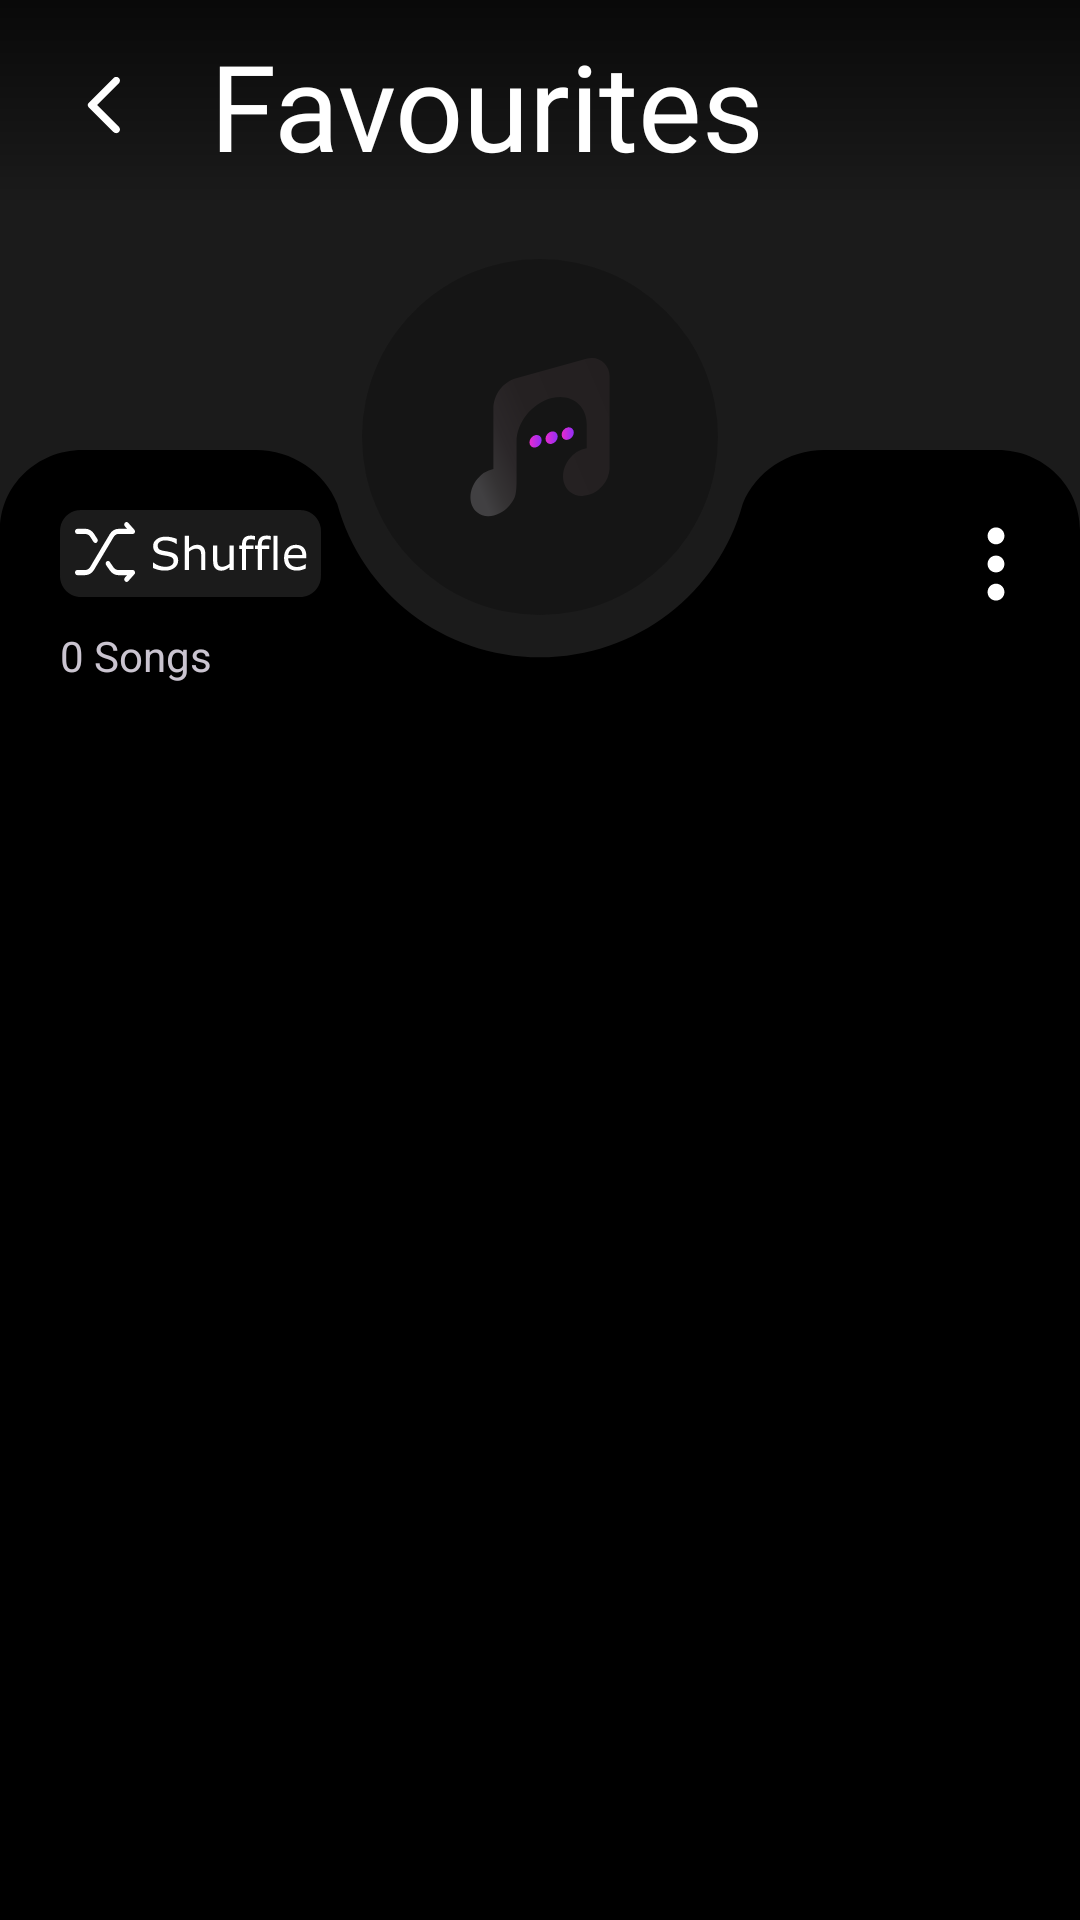

Screen size 1080px×1920px. Icon name, then its center in pixels as point (x, y):
three dots: point (996, 564)
